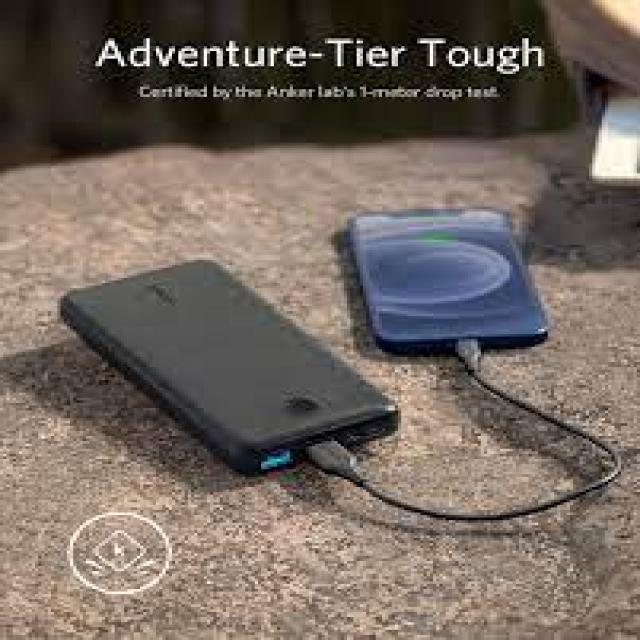portable-charger: (57, 258, 400, 477)
